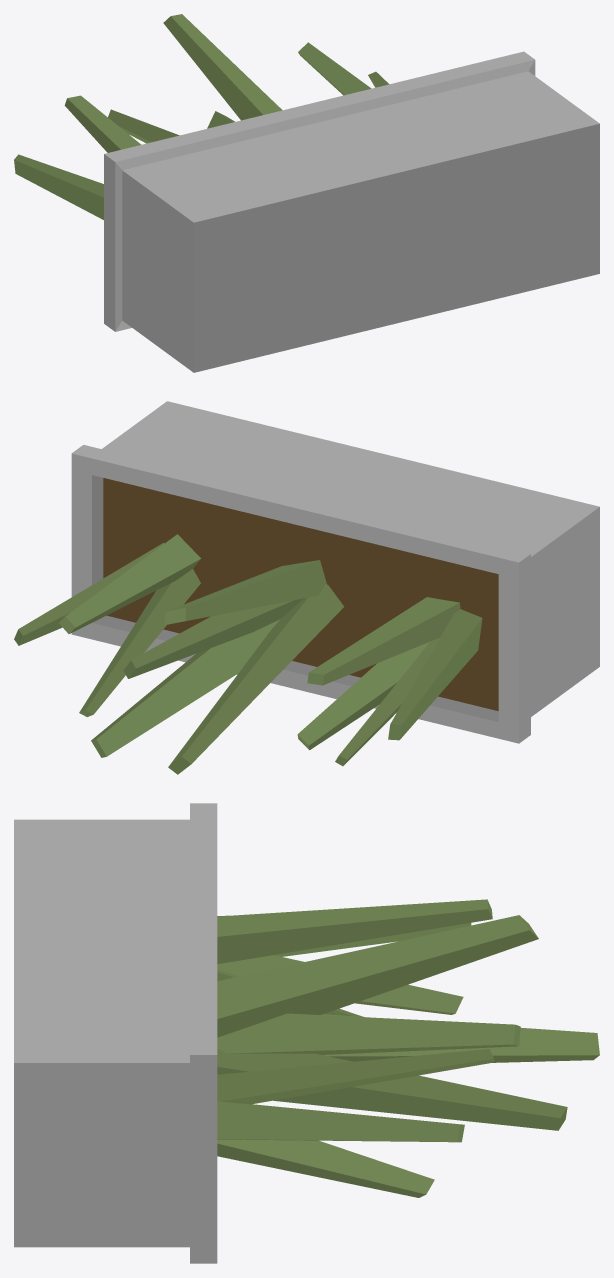
Rendered from Plant2.glb.
3 renders of one model, top to bottom at view 1: azimuth 30°, elevation 25°; view 2: azimuth 150°, elevation 25°; view 3: azimuth 270°, elevation 25°, orthographic. The views are drawn at different scales.
Parts seen in each view (by area): view 1: SO_Plant_02; view 2: SO_Plant_02; view 3: SO_Plant_02.
Boxes of the visible parts, x1,y1,x2,y2 form: SO_Plant_02: (14, 14, 599, 372); SO_Plant_02: (14, 401, 599, 774); SO_Plant_02: (14, 803, 599, 1263).
Size of the model in its own units: 1.35 by 0.5267 by 1.33.
1 material, 1 textured.
